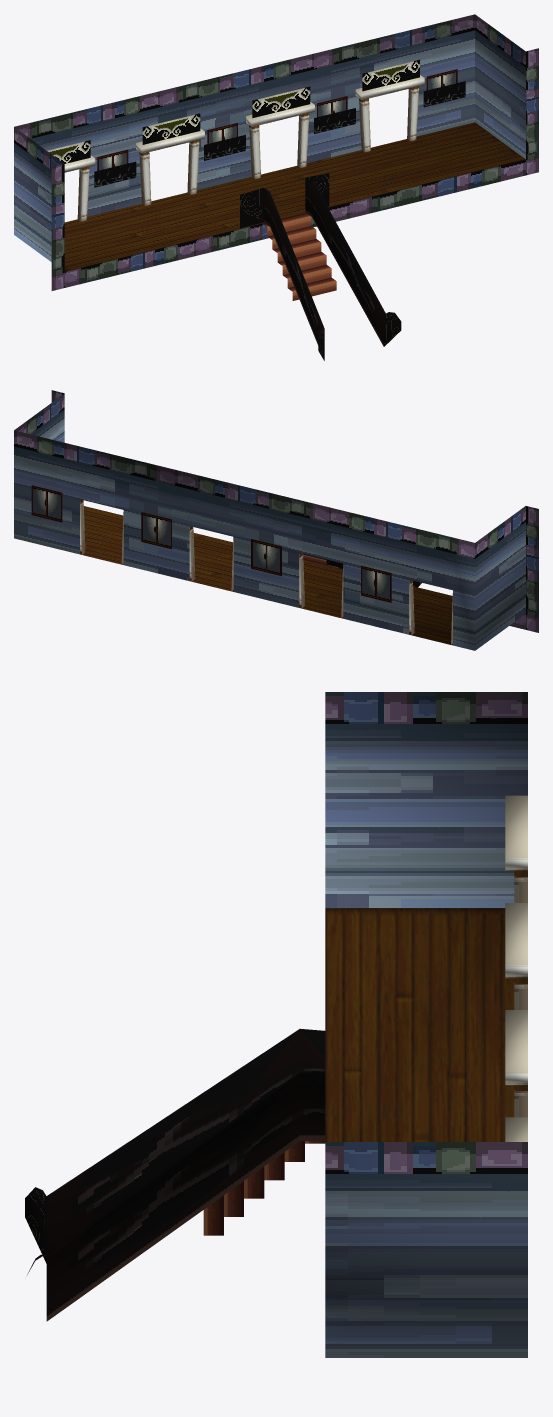
3 views of the same model, one above another, from view 1: azimuth 30°, elevation 25°; view 2: azimuth 150°, elevation 25°; view 3: azimuth 270°, elevation 25° (orthographic). The views are drawn at different scales.
Parts seen in each view (by area): view 1: apart_passage; view 2: apart_passage; view 3: apart_passage.
Part boxes in pixels (x1,y1,x2,y2): apart_passage: (14, 14, 538, 360); apart_passage: (14, 390, 538, 650); apart_passage: (25, 692, 527, 1357).
Size of the model in its own units: 5.55 by 2.1 by 2.48.
Materials: 10 (10 with a texture image).
